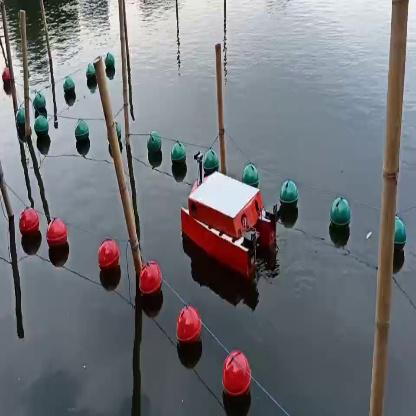green_buoy: (331, 199, 351, 234), (280, 181, 297, 217), (74, 122, 90, 152), (34, 115, 48, 143), (146, 133, 160, 159), (172, 148, 185, 174), (14, 108, 26, 136), (396, 220, 403, 262), (84, 64, 96, 86), (62, 80, 74, 100), (245, 165, 256, 185), (35, 94, 46, 112), (204, 152, 216, 166), (106, 52, 115, 70)
red_buoy: (217, 348, 252, 398), (96, 244, 122, 272), (137, 265, 158, 297), (19, 208, 40, 239), (49, 218, 69, 249), (182, 304, 196, 347), (1, 70, 12, 92)
